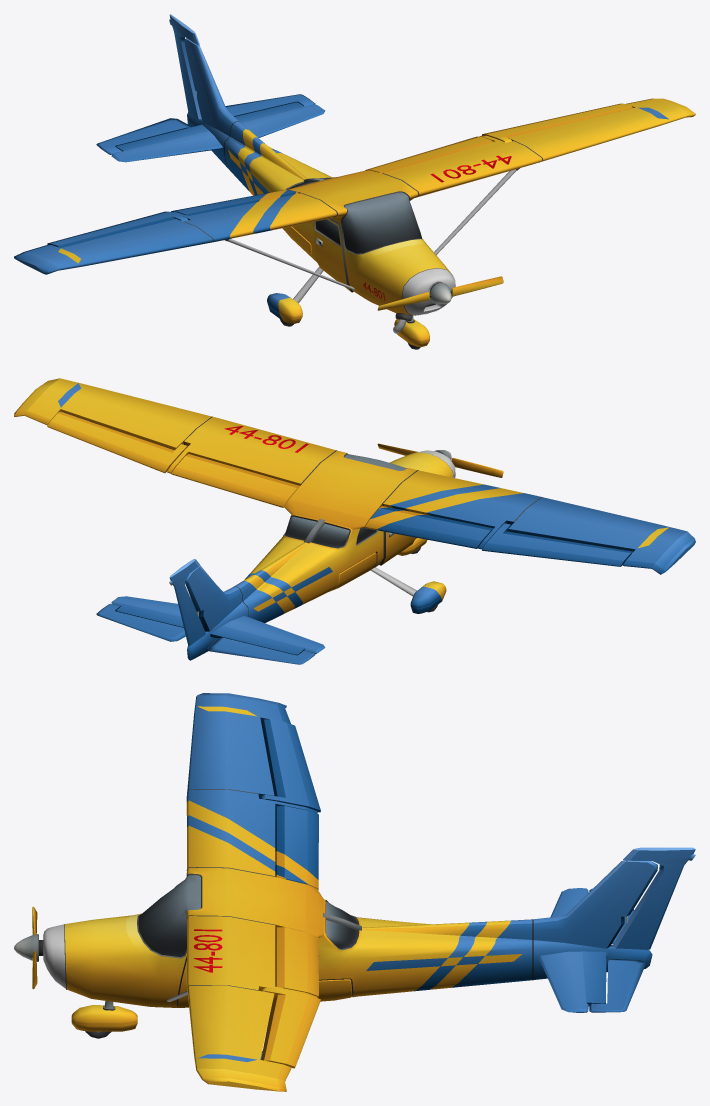
3 renders of one model, top to bottom at view 1: azimuth 30°, elevation 25°; view 2: azimuth 150°, elevation 25°; view 3: azimuth 270°, elevation 25°, orthographic. The views are drawn at different scales.
Parts seen in each view (by area): view 1: Fuselage_Plane_6B, Aileron_6B_F.L, Rudder_6B, Propeller_6B, Aileron_6B_F.R, Elevator_6B_R.R, Flap_6B_F.L, Livery_6B, Flap_6B_F.R, Elevator_6B_R.L; view 2: Fuselage_Plane_6B, Flap_6B_F.L, Aileron_6B_F.L, Aileron_6B_F.R, Flap_6B_F.R, Rudder_6B, Livery_6B, Elevator_6B_R.R, Elevator_6B_R.L, Propeller_6B; view 3: Fuselage_Plane_6B, Rudder_6B, Aileron_6B_F.R, Flap_6B_F.R, Aileron_6B_F.L, Flap_6B_F.L, Livery_6B, Elevator_6B_R.L, Propeller_6B.
Part boxes in pixels (box(x1,y1,x2,y2)): Fuselage_Plane_6B: box(14, 38, 695, 347); Aileron_6B_F.L: box(482, 103, 633, 142); Rudder_6B: box(169, 14, 201, 119); Propeller_6B: box(377, 276, 503, 310); Aileron_6B_F.R: box(47, 211, 187, 247); Elevator_6B_R.R: box(96, 118, 191, 154); Flap_6B_F.L: box(365, 136, 492, 173); Livery_6B: box(58, 107, 668, 300); Flap_6B_F.R: box(171, 189, 298, 215); Elevator_6B_R.L: box(225, 94, 315, 116); Fuselage_Plane_6B: box(14, 378, 695, 660); Flap_6B_F.L: box(171, 454, 299, 507); Aileron_6B_F.L: box(47, 412, 188, 473); Aileron_6B_F.R: box(482, 523, 633, 566); Flap_6B_F.R: box(365, 506, 493, 548); Rudder_6B: box(169, 559, 205, 645); Livery_6B: box(58, 383, 668, 611); Elevator_6B_R.R: box(207, 637, 315, 664); Elevator_6B_R.L: box(96, 603, 185, 641); Propeller_6B: box(377, 443, 503, 477); Fuselage_Plane_6B: box(43, 693, 657, 1091); Rudder_6B: box(612, 847, 695, 949); Aileron_6B_F.R: box(261, 719, 320, 812); Flap_6B_F.R: box(275, 806, 318, 889); Aileron_6B_F.L: box(261, 987, 320, 1068); Flap_6B_F.L: box(275, 927, 318, 997); Livery_6B: box(193, 706, 522, 1061); Elevator_6B_R.L: box(589, 958, 646, 1012); Propeller_6B: box(14, 906, 43, 989).
Size of the model in its own units: 980 by 224 by 729.
